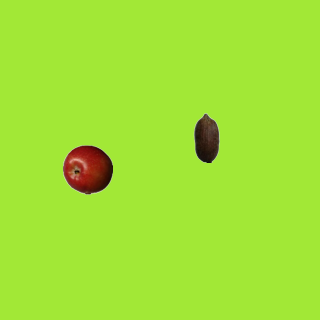Apple Braeburn: (62, 144, 112, 194)
Nut Pecan: (181, 112, 231, 162)
